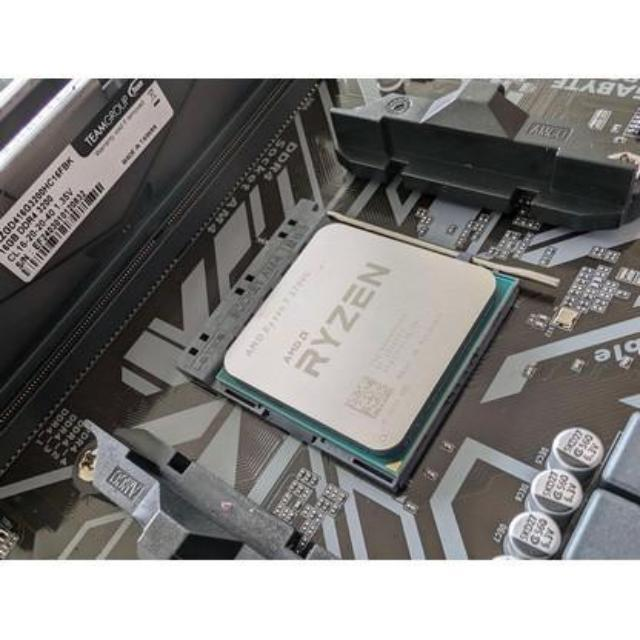CPU: (213, 218, 499, 454)
